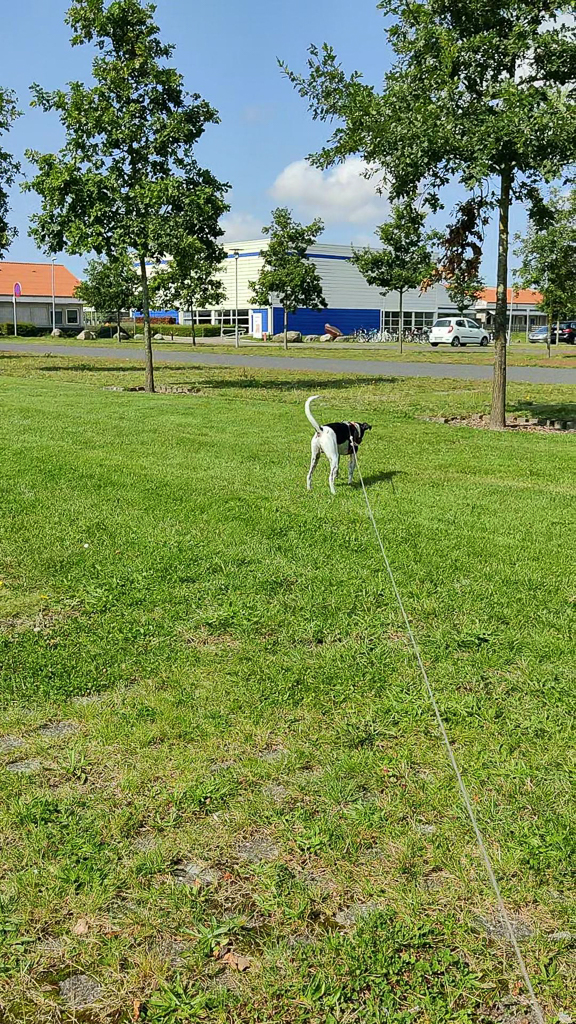Dog: (296, 387, 383, 505)
